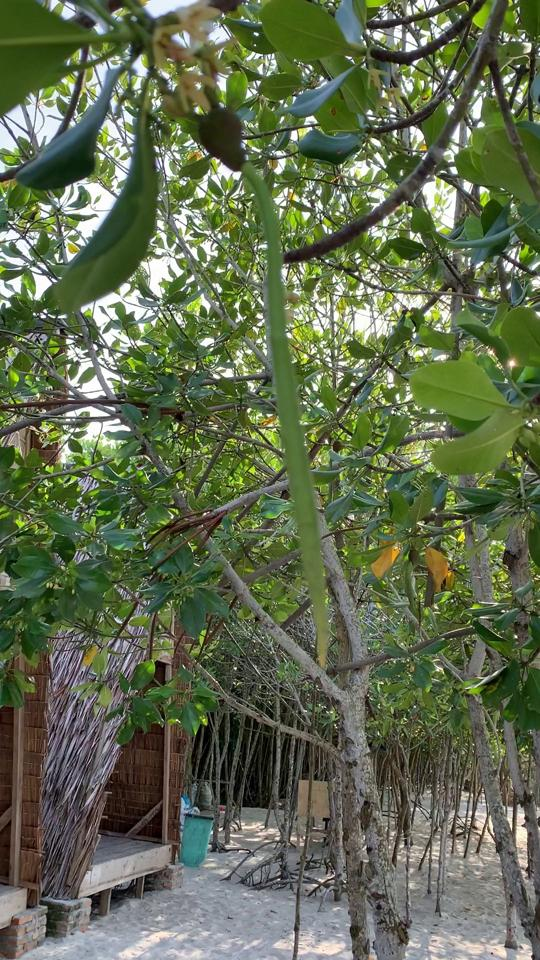mentah: (174, 78, 354, 674)
